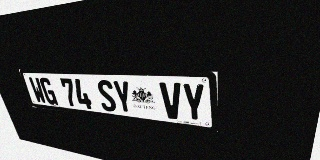4: (72, 79, 93, 109)
7: (59, 78, 80, 108)
G: (39, 77, 58, 105)
S: (96, 80, 118, 112)
V: (159, 82, 183, 120)
W: (28, 77, 47, 104)
Y: (181, 83, 206, 123), (112, 80, 134, 114)
